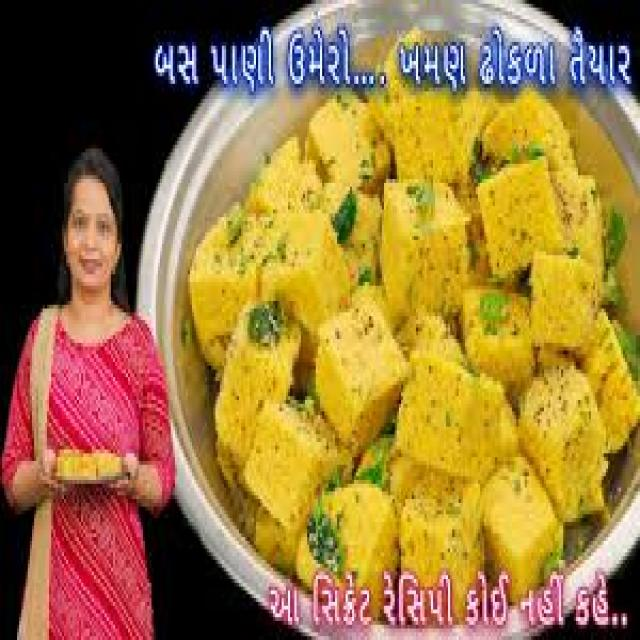DHOKLA: (397, 339, 516, 476), (243, 400, 348, 552), (316, 290, 405, 446), (215, 301, 299, 465), (521, 366, 604, 518), (401, 469, 482, 617), (380, 183, 467, 316), (482, 457, 561, 602), (190, 202, 258, 366), (260, 213, 352, 328), (476, 156, 563, 274), (326, 480, 395, 613), (531, 251, 597, 347)
